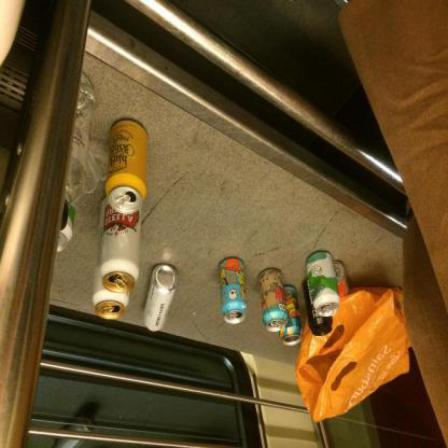Bottle: (61, 74, 96, 232)
Can: (93, 199, 131, 321), (100, 198, 143, 294), (106, 122, 149, 216), (144, 264, 179, 332), (307, 253, 341, 317), (260, 270, 290, 333), (220, 259, 248, 325), (303, 279, 334, 337), (280, 287, 304, 347), (58, 205, 78, 254), (334, 263, 352, 299)
Plastic bag - wrapper: (297, 288, 413, 424)
Pop tab: (117, 195, 132, 210), (115, 280, 128, 292), (102, 308, 115, 316), (325, 307, 335, 316), (230, 315, 239, 321), (274, 323, 283, 329), (337, 269, 343, 278)
